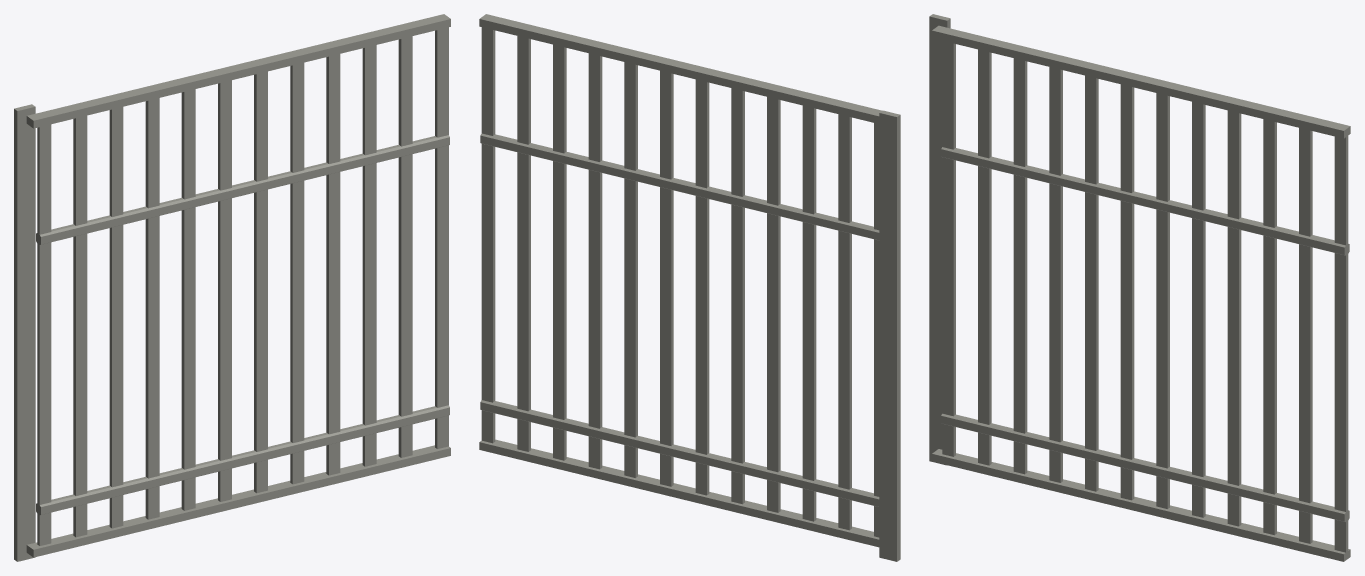
File: Gate_01.fbx
3 views of the same model, side by side, from view 1: azimuth 30°, elevation 25°; view 2: azimuth 150°, elevation 25°; view 3: azimuth 330°, elevation 25° (orthographic).
Visible parts, largest first — view 1: SM_gate_01; view 2: SM_gate_01; view 3: SM_gate_01.
Part boxes in pixels (left/top/right/bottom): SM_gate_01: left=14, top=14, right=450, bottom=561; SM_gate_01: left=479, top=14, right=900, bottom=561; SM_gate_01: left=929, top=14, right=1350, bottom=561.
Size of the model in its own units: 204 by 206 by 8.47.
Materials: 1 (1 with a texture image).
